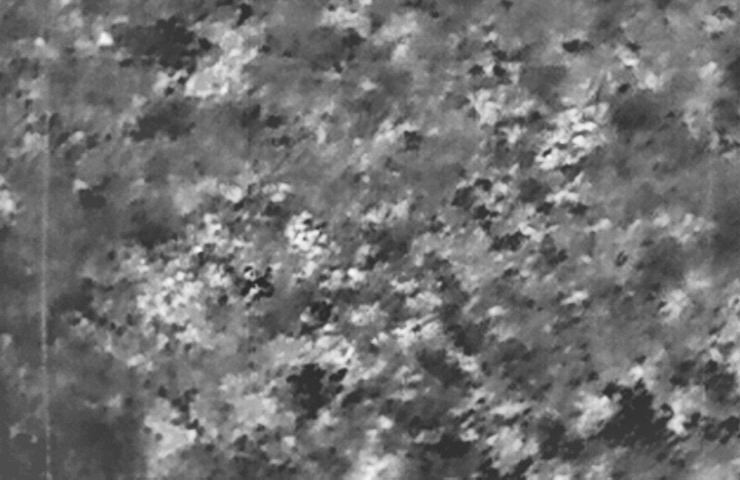landmines: (289, 213, 340, 275)
